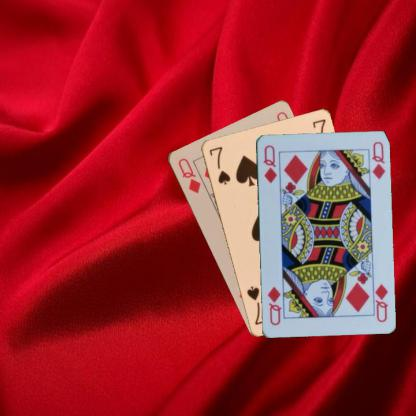7s: (206, 143, 231, 186)
Qd: (175, 155, 202, 195), (369, 278, 389, 323), (260, 142, 278, 184)
